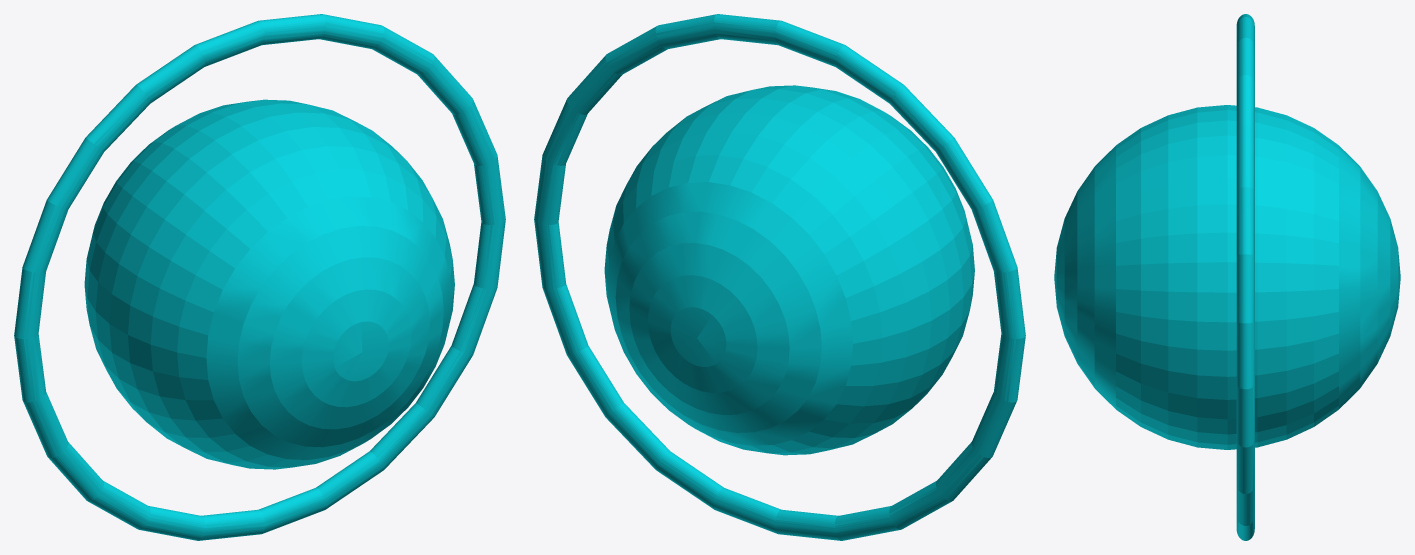
File: urano.gltf
3 views of the same model, side by side, from view 1: azimuth 30°, elevation 25°; view 2: azimuth 150°, elevation 25°; view 3: azimuth 270°, elevation 25° (orthographic). The views are drawn at different scales.
Parts seen in each view (by area): view 1: group_0_undefined; view 2: group_0_undefined; view 3: group_0_undefined.
Boxes of the visible parts, x1,y1,x2,y2 form: group_0_undefined: (14,14,505,540); group_0_undefined: (534,14,1025,540); group_0_undefined: (1054,14,1400,540).
Size of the model in its own units: 0.29 by 0.29 by 0.19.
